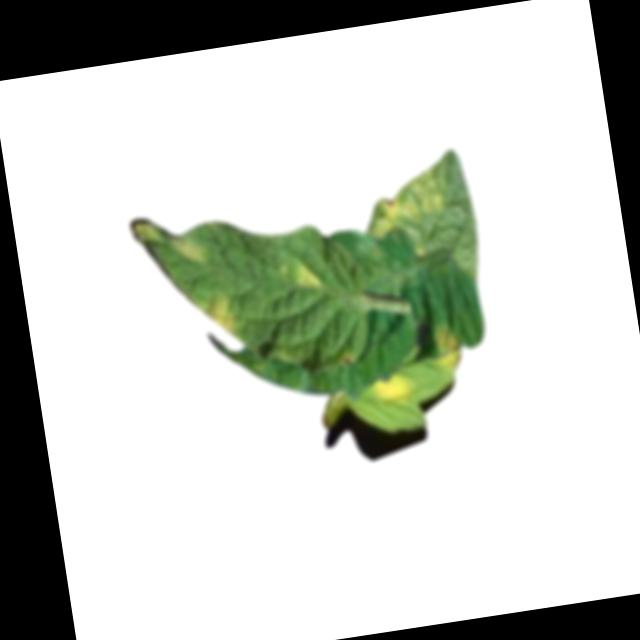Leaf_Mold: (363, 168, 446, 238), (430, 321, 471, 377), (369, 369, 423, 410), (197, 292, 241, 337), (289, 258, 328, 297), (129, 218, 161, 252), (174, 233, 204, 267)
